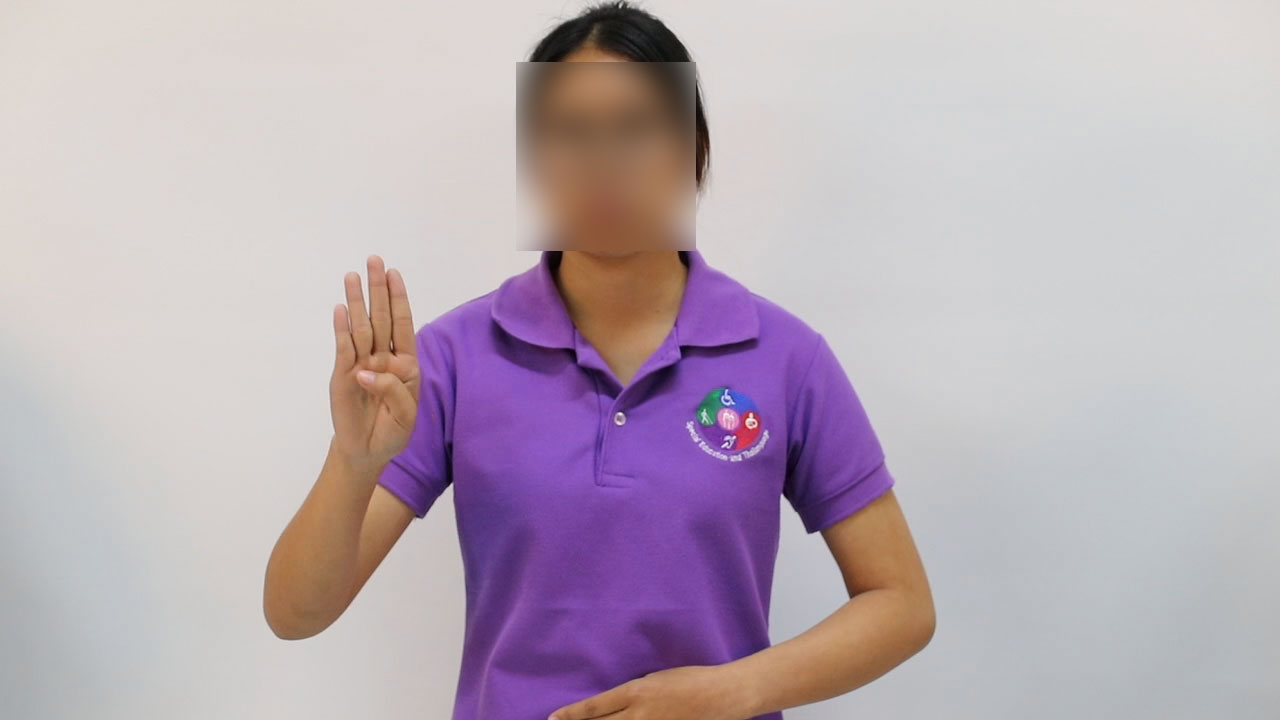bor: (310, 237, 436, 485)
